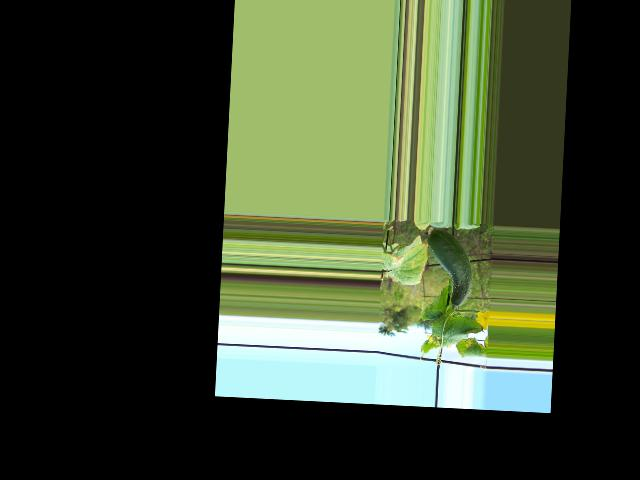cucumber: (424, 229, 474, 308)
